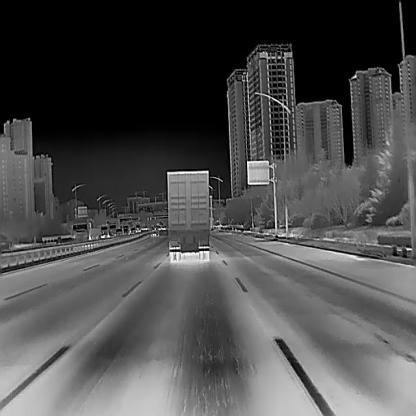car: (166, 170, 209, 261), (72, 221, 100, 242), (108, 218, 119, 237), (99, 225, 108, 237), (150, 226, 159, 236), (135, 224, 141, 232)
